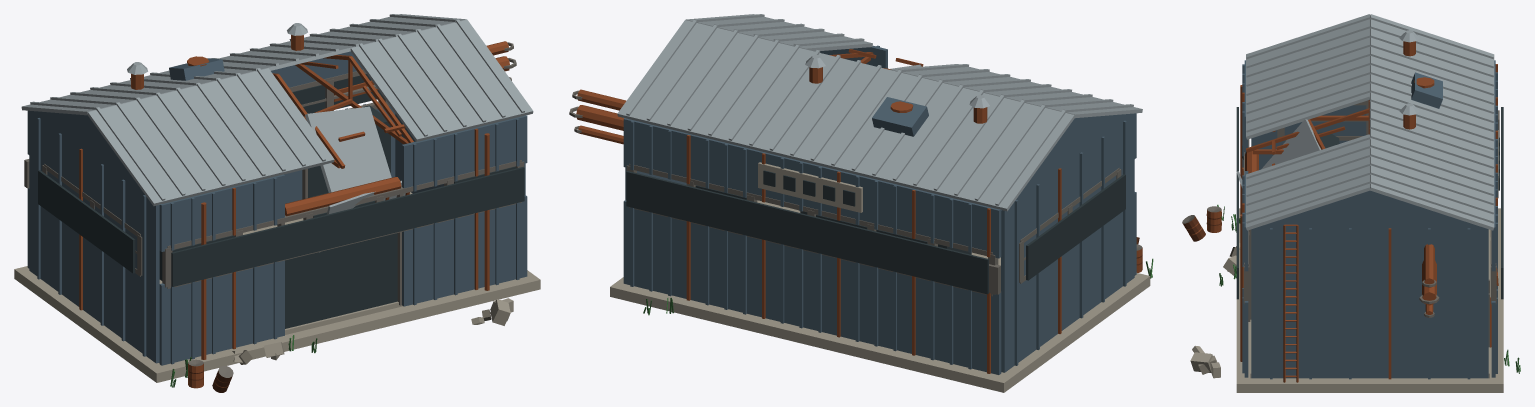
The model's file is ChemPlant_Hall.fbx.
3 renders of one model, left to right at view 1: azimuth 30°, elevation 25°; view 2: azimuth 150°, elevation 25°; view 3: azimuth 270°, elevation 25°, orthographic. The views are drawn at different scales.
Visible parts, largest first — view 1: ChemPlant_Hall; view 2: ChemPlant_Hall; view 3: ChemPlant_Hall.
Boxes of the visible parts, x1=… form: ChemPlant_Hall: x1=14, y1=14, x2=540, y2=392; ChemPlant_Hall: x1=569, y1=14, x2=1153, y2=392; ChemPlant_Hall: x1=1182, y1=14, x2=1520, y2=392.
Size of the model in its own units: 2020 by 1003 by 1370.
